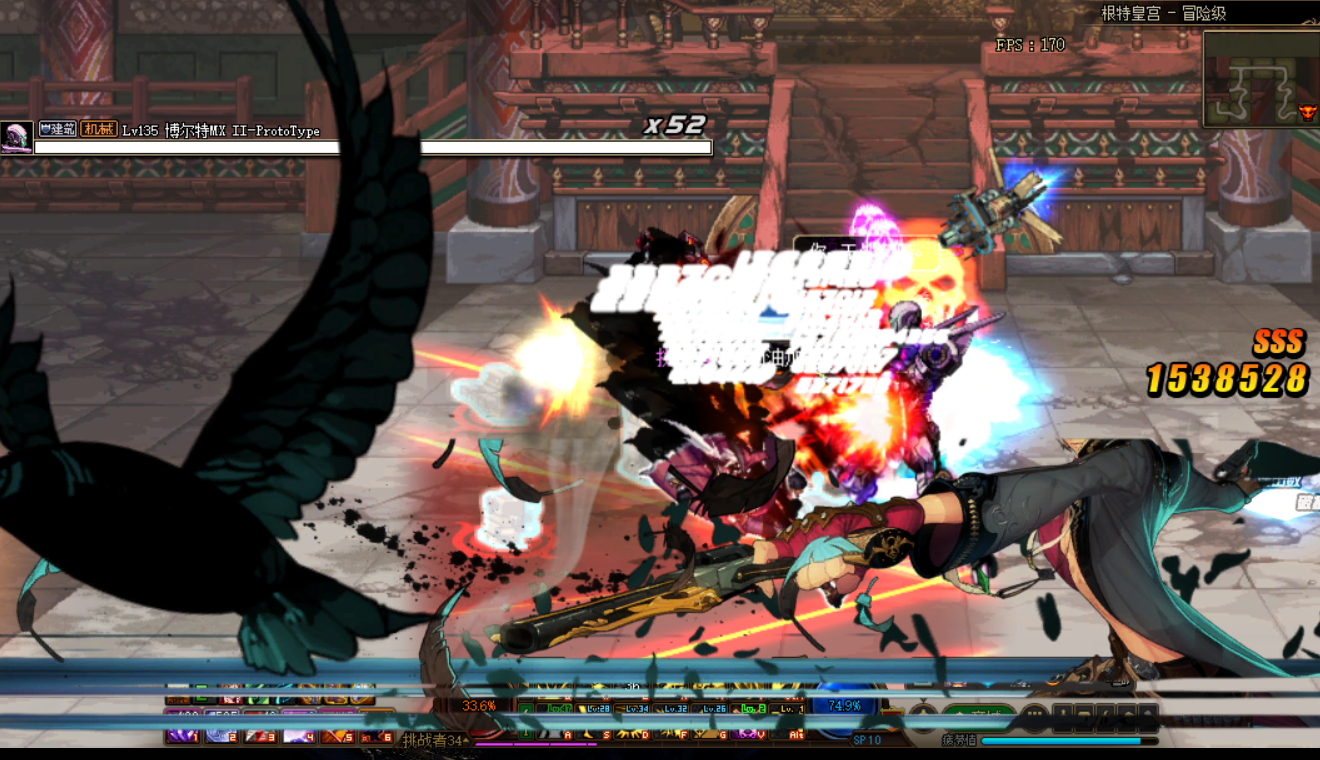boss: (786, 277, 976, 517)
warrior: (622, 370, 805, 547)
